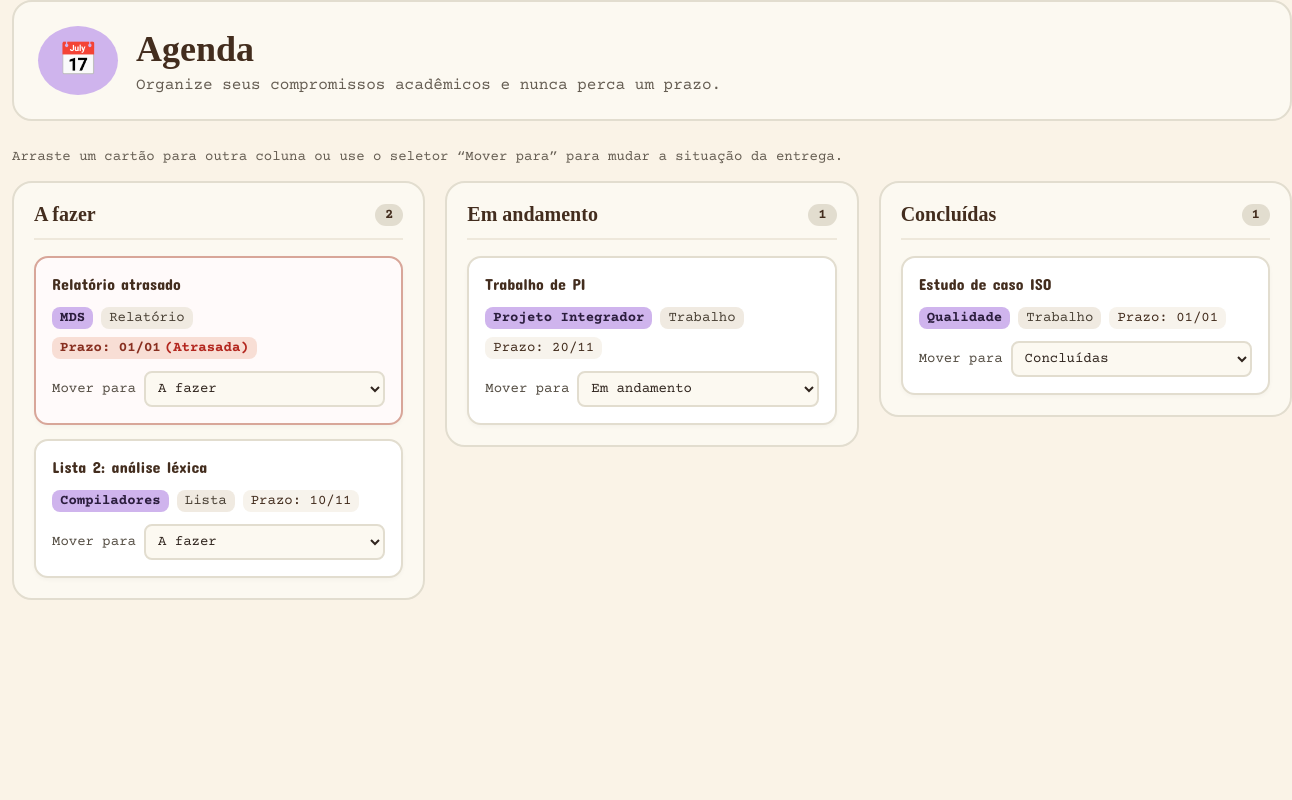
Test: Mover cartão na Agenda (US04a) › desfaz a mudança e avisa quando a API recusa
Select "Concluídas" in the dropdown named "Mover Lista 2: análise léxica para" at (265, 542), box [144,524,385,560]
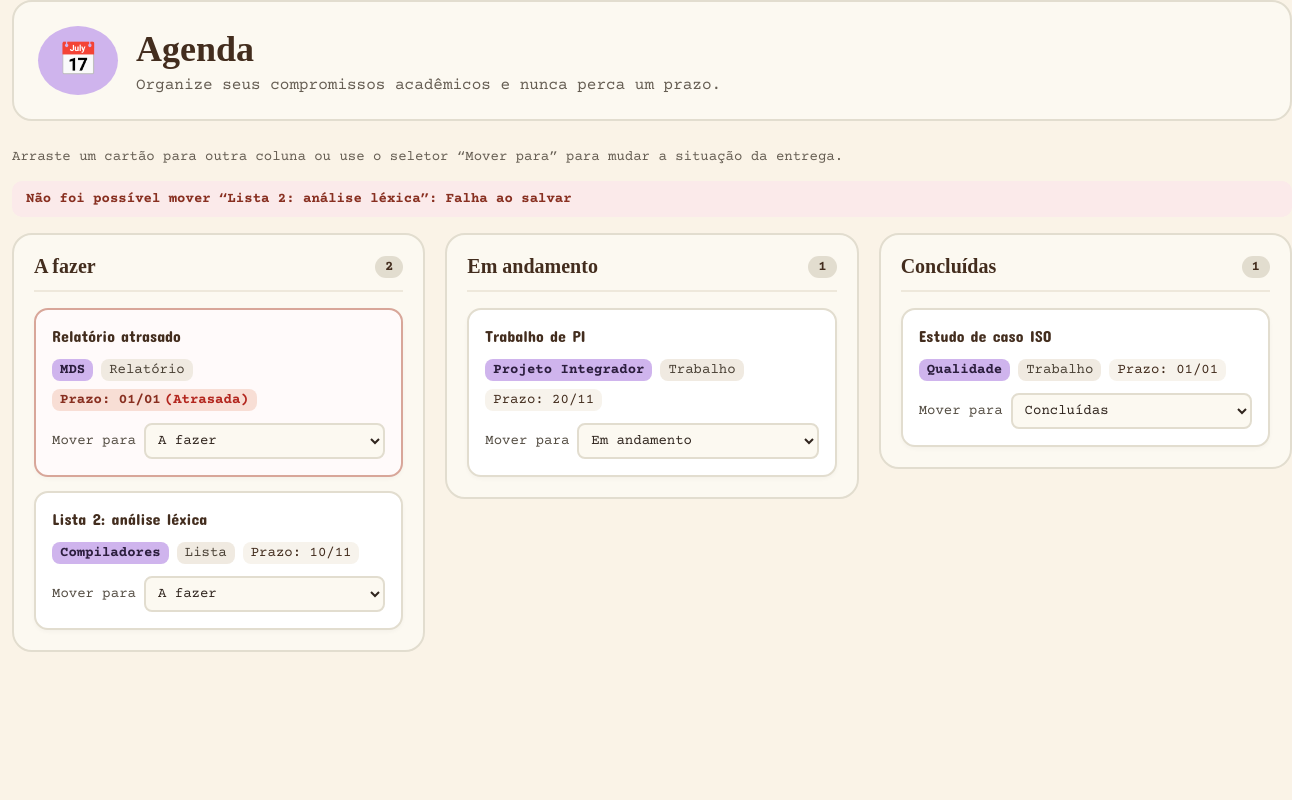
expect the text named "2 atividades em A fazer" is shown: met, box [375,256,403,278]
expect the message "Não foi possível mover “Lista 2: análise léxica”: Falha ao salvar" is shown: met, box [12,181,1291,217]
